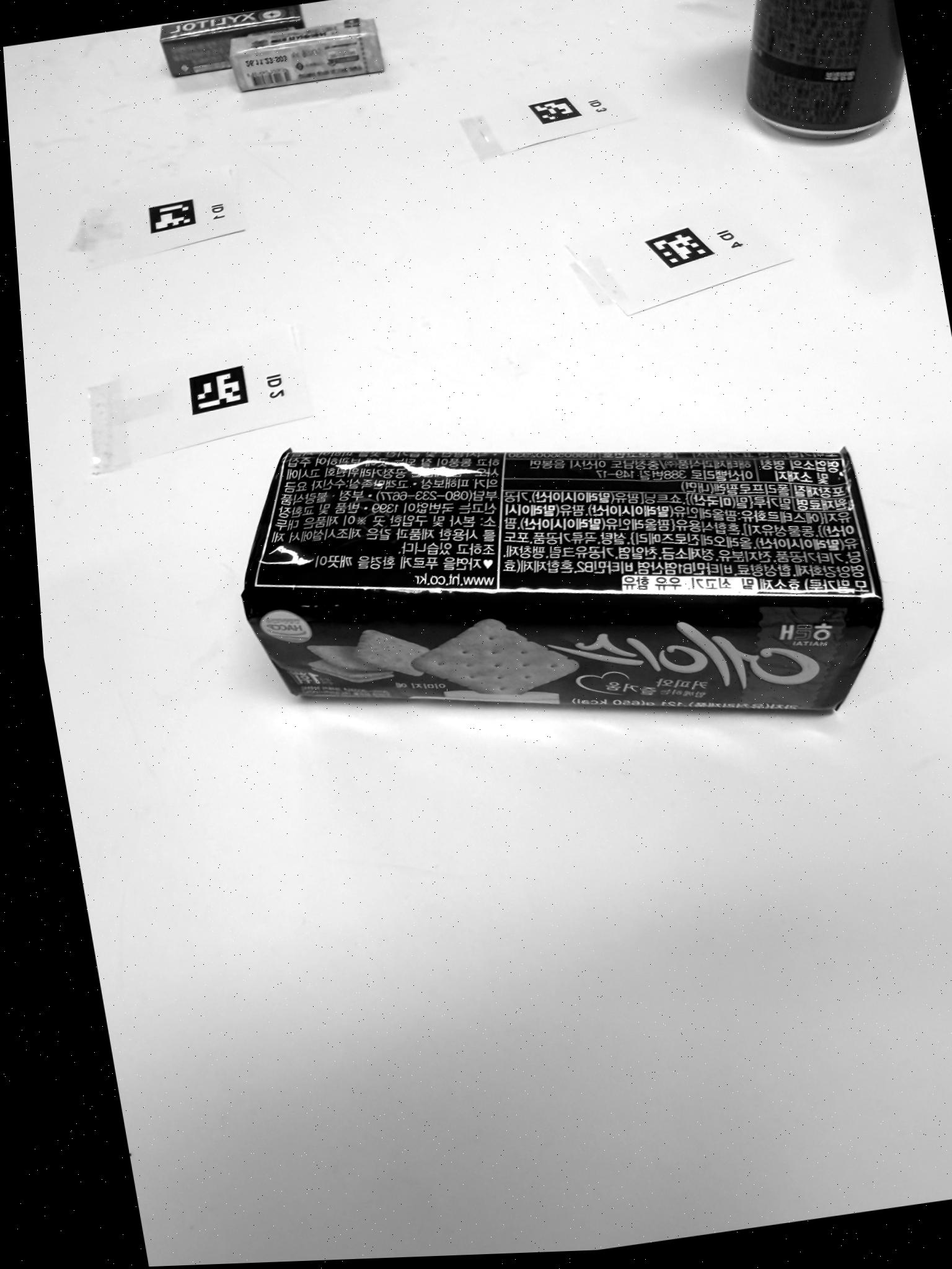cracker_ace: (243, 450, 882, 711)
